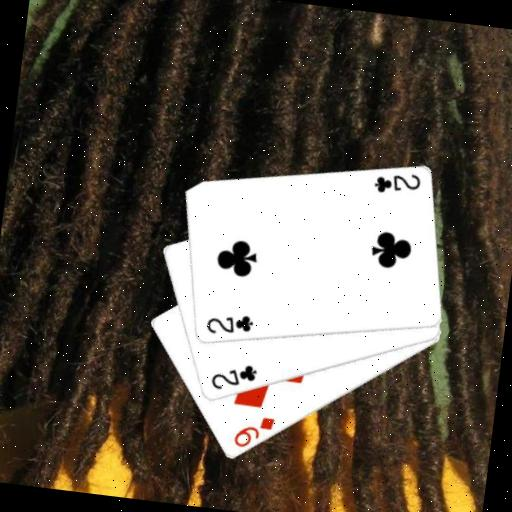2C: (207, 357, 260, 396), (370, 167, 423, 200), (202, 308, 255, 340)
9D: (230, 411, 277, 454)
